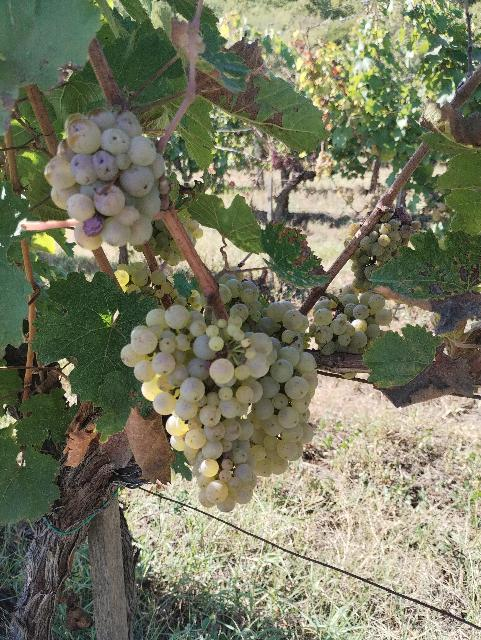grapes: (121, 304, 274, 512), (45, 109, 165, 251), (246, 302, 318, 476), (351, 206, 421, 290), (310, 291, 392, 355)
